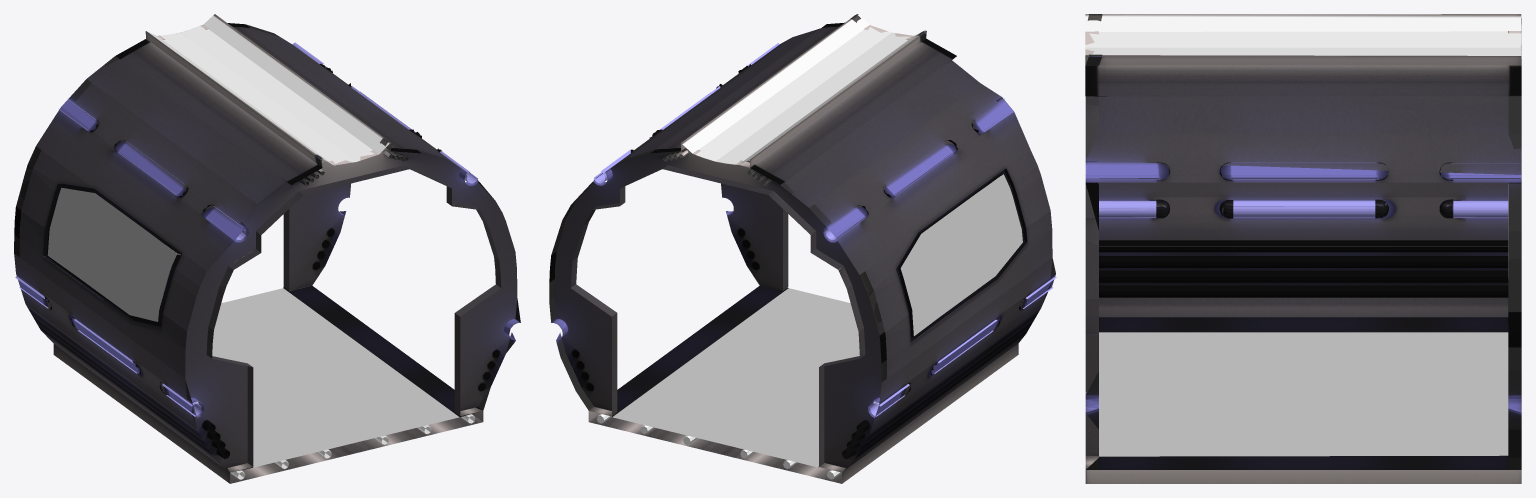
Rendered from Modulo_corridoio_low_poly_DX.fbx.
The picture shows the model from 3 angles, left to right: view 1: azimuth 30°, elevation 25°; view 2: azimuth 150°, elevation 25°; view 3: azimuth 270°, elevation 25°; orthographic projection. The views are drawn at different scales.
Visible parts, largest first — view 1: Corridoio_001, Pavimento_001, Vetri; view 2: Corridoio_001, Pavimento_001, Vetri; view 3: Corridoio_001, Pavimento_001.
Boxes of the visible parts, x1,y1,x2,y2 form: Corridoio_001: (14,14,520,483); Pavimento_001: (196,288,459,467); Vetri: (47,187,176,321); Corridoio_001: (549,14,1056,483); Pavimento_001: (612,288,875,467); Vetri: (900,174,1022,335); Corridoio_001: (1085,14,1521,483); Pavimento_001: (1099,332,1508,456).
Bounding box in the file's own units: 7.03 × 6.1 × 6.47.
